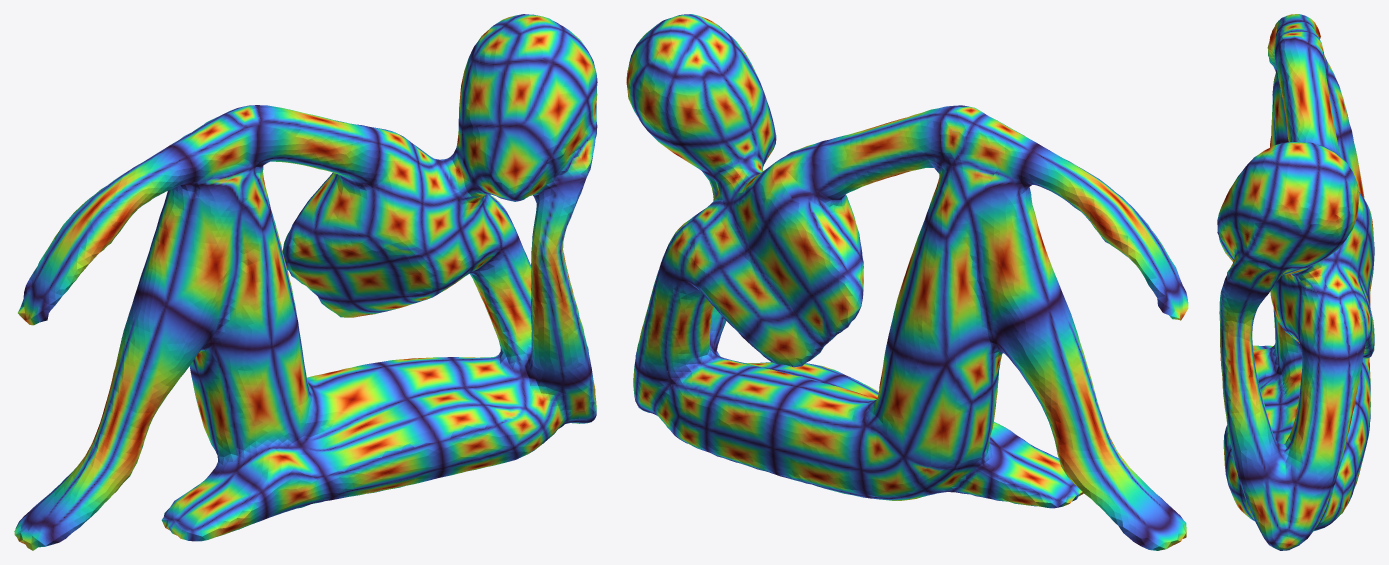
The model's file is gen0.glb.
3 views of the same model, side by side, from view 1: azimuth 30°, elevation 25°; view 2: azimuth 150°, elevation 25°; view 3: azimuth 270°, elevation 25° (orthographic). The views are drawn at different scales.
Parts seen in each view (by area): view 1: Node; view 2: Node; view 3: Node.
Part boxes in pixels (x1,y1,x2,y2): Node: (14, 14, 597, 550); Node: (626, 14, 1188, 550); Node: (1217, 14, 1374, 550).
Size of the model in its own units: 0.9985 by 0.7006 by 0.2574.
1 material, 1 textured.
